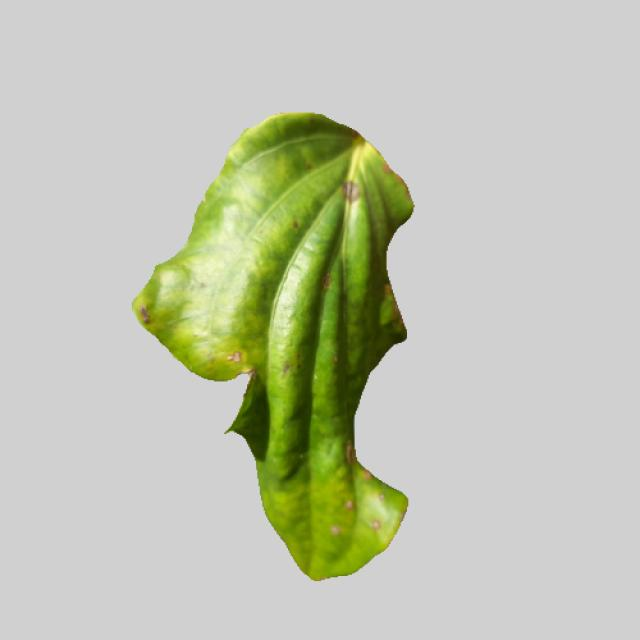yellow-mottle-virus: (111, 112, 415, 578)
